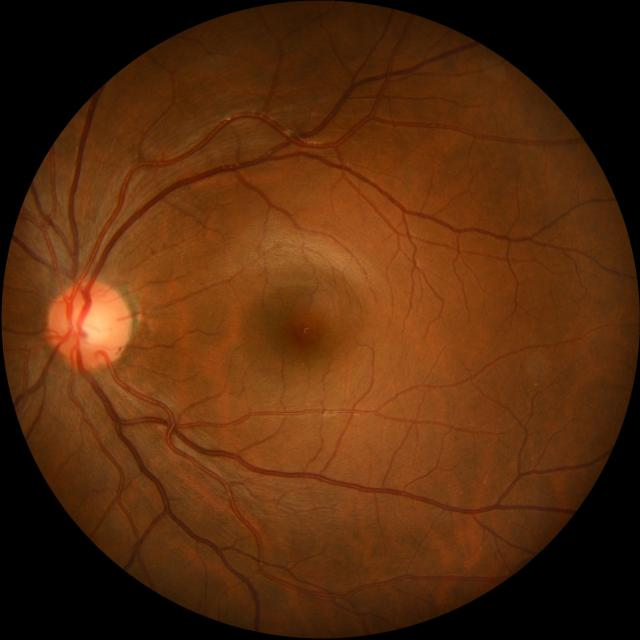OC: (71, 302, 114, 351)
OD: (49, 280, 130, 368)
